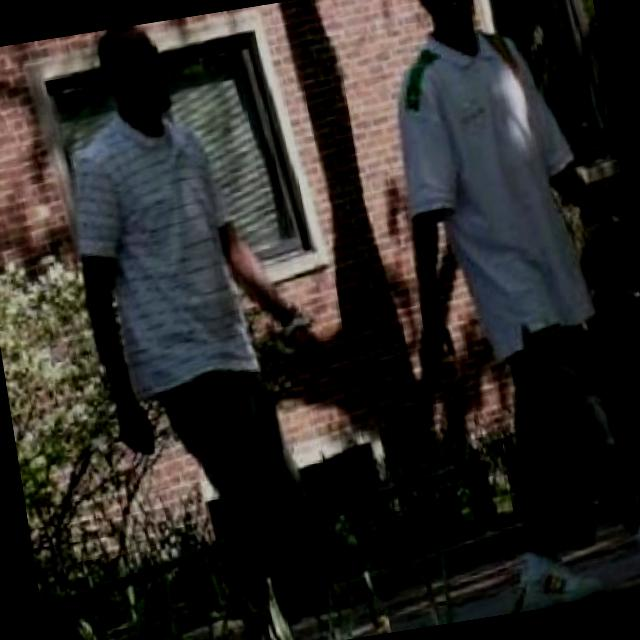Person: (38, 2, 377, 640), (359, 0, 640, 620)
